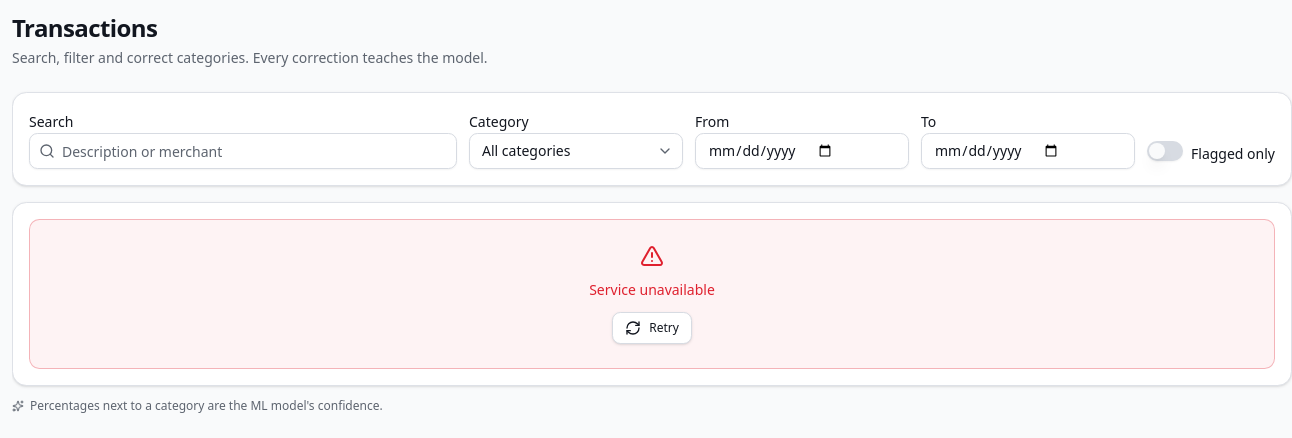
Test case: <TransactionsPage> › shows an empty state and an error state with retry
This screenshot has width=1292, height=438.
Expected: the text "Service unavailable" is shown, [589, 280, 715, 300]
Click the button "Retry" at (652, 328), box [612, 312, 692, 344]
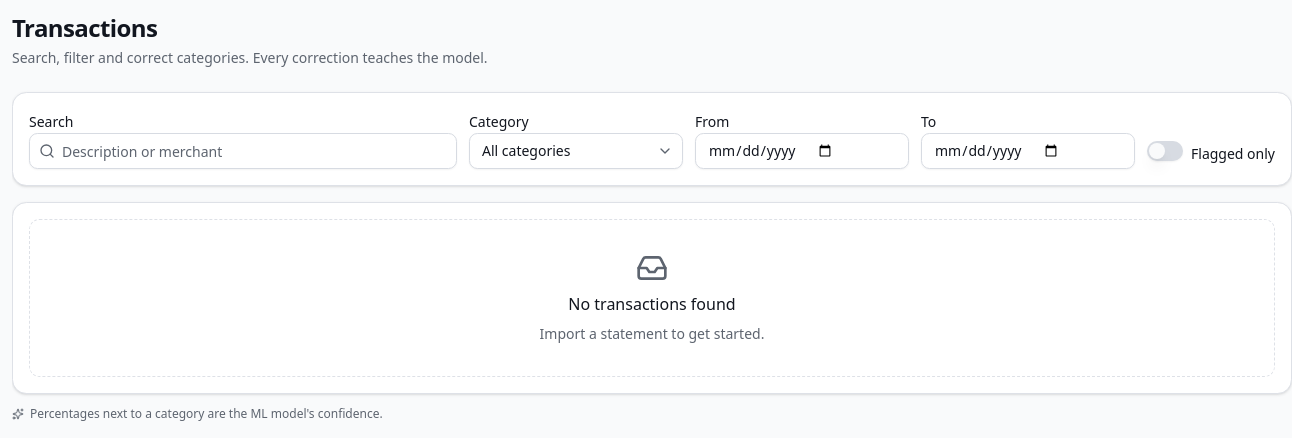
Expected: the text "No transactions found" is shown, [568, 292, 736, 316]
